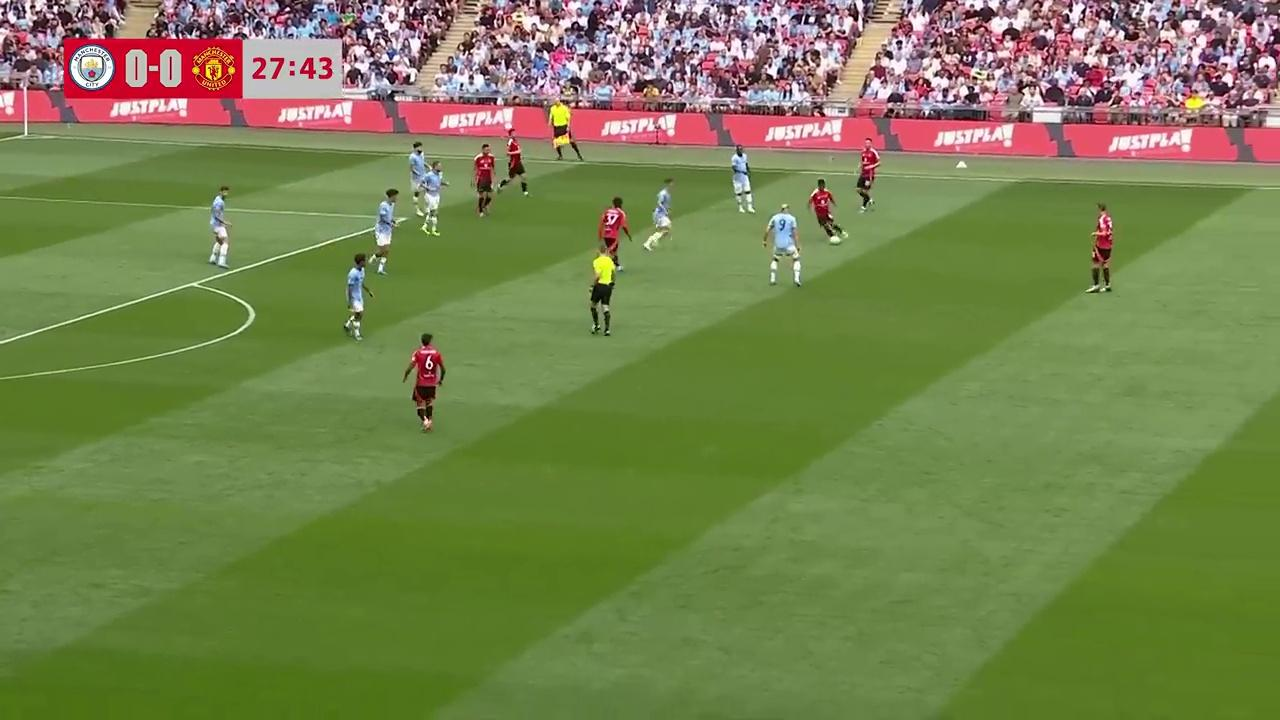player: (401, 333, 445, 432), (761, 202, 803, 287), (343, 252, 375, 340), (1086, 202, 1114, 293), (599, 195, 632, 272), (370, 190, 399, 275), (807, 178, 844, 244), (643, 179, 674, 251), (420, 160, 449, 236), (207, 185, 233, 267), (498, 135, 529, 196), (471, 146, 495, 217), (730, 147, 754, 213), (856, 147, 878, 212), (407, 141, 428, 196)
referee: (587, 240, 619, 337), (550, 103, 583, 162)
